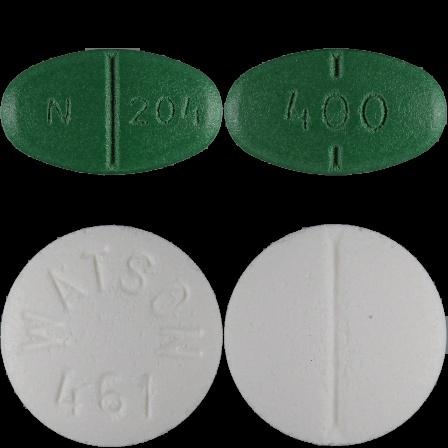50090-0500: (0, 0, 224, 224)
